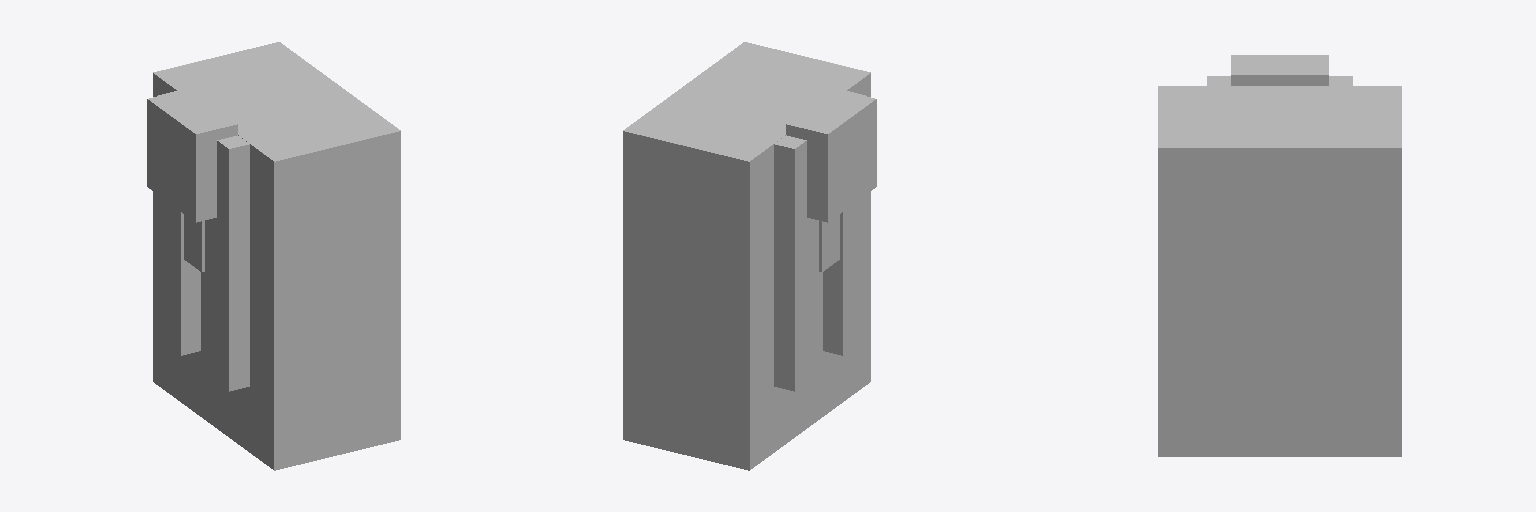
File: rebreather_chest.obj
3 views of the same model, side by side, from view 1: azimuth 30°, elevation 25°; view 2: azimuth 150°, elevation 25°; view 3: azimuth 270°, elevation 25° (orthographic).
Parts seen in each view (by area): view 1: chestplate, bb_main, cube; view 2: chestplate, bb_main, cube; view 3: chestplate, cube.
Boxes of the visible parts, x1=… form: chestplate: x1=153, y1=42, x2=400, y2=470; bb_main: x1=156, y1=91, x2=249, y2=391; cube: x1=147, y1=89, x2=237, y2=271; chestplate: x1=623, y1=42, x2=870, y2=470; bb_main: x1=774, y1=91, x2=867, y2=391; cube: x1=786, y1=89, x2=876, y2=271; chestplate: x1=1158, y1=86, x2=1401, y2=456; cube: x1=1231, y1=55, x2=1328, y2=85.
Size of the model in its own units: 0.5006 by 0.9069 by 0.6263.